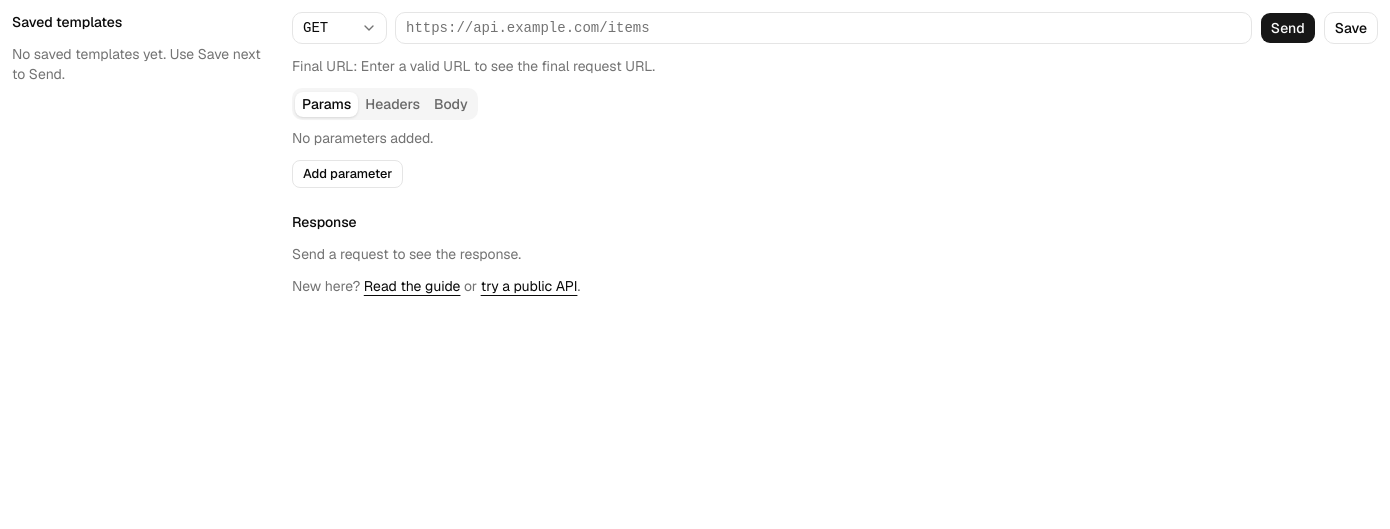
Scenario: Body tab (FR-01) › is disabled for GET, and content survives switching methods
Click the tab "Body".
click(451, 104)  # box [427, 92, 475, 116]
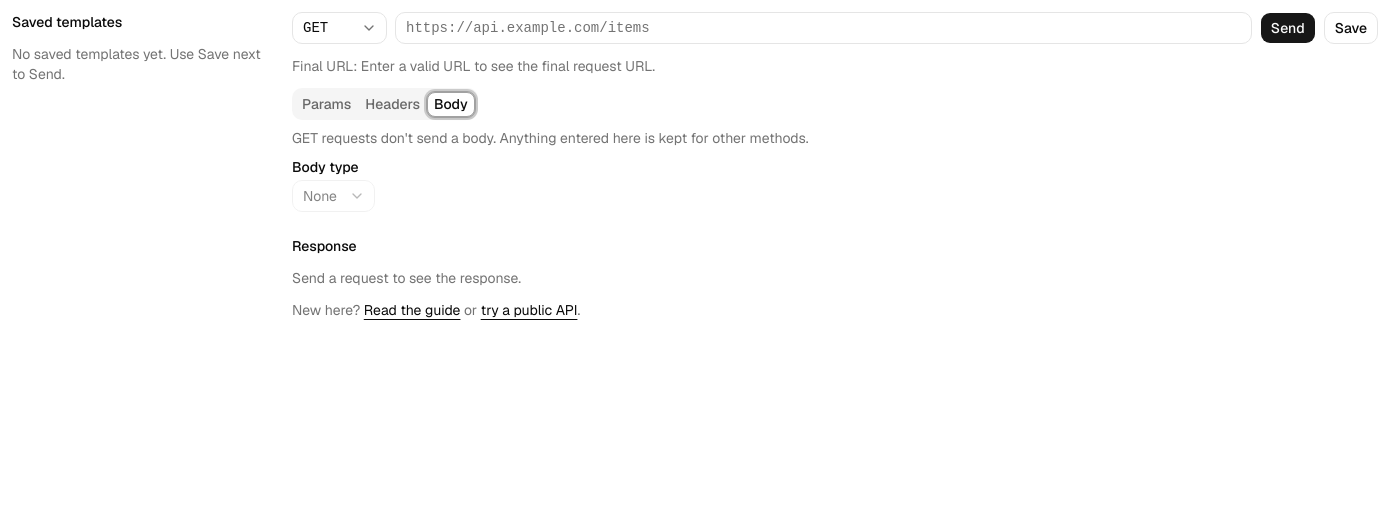
Select "POST" in the dropdown named "Method" at {"x": 340, "y": 28}, box [292, 12, 387, 44]
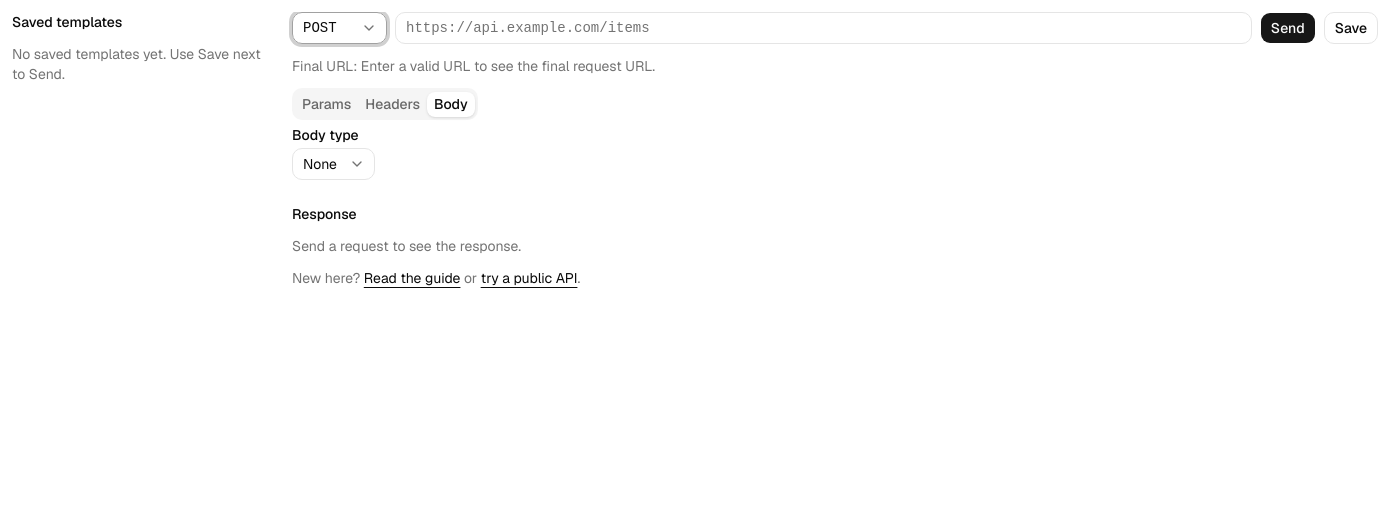
Select "Text" in the dropdown labelled "Body type" at {"x": 334, "y": 164}, box [292, 148, 375, 180]
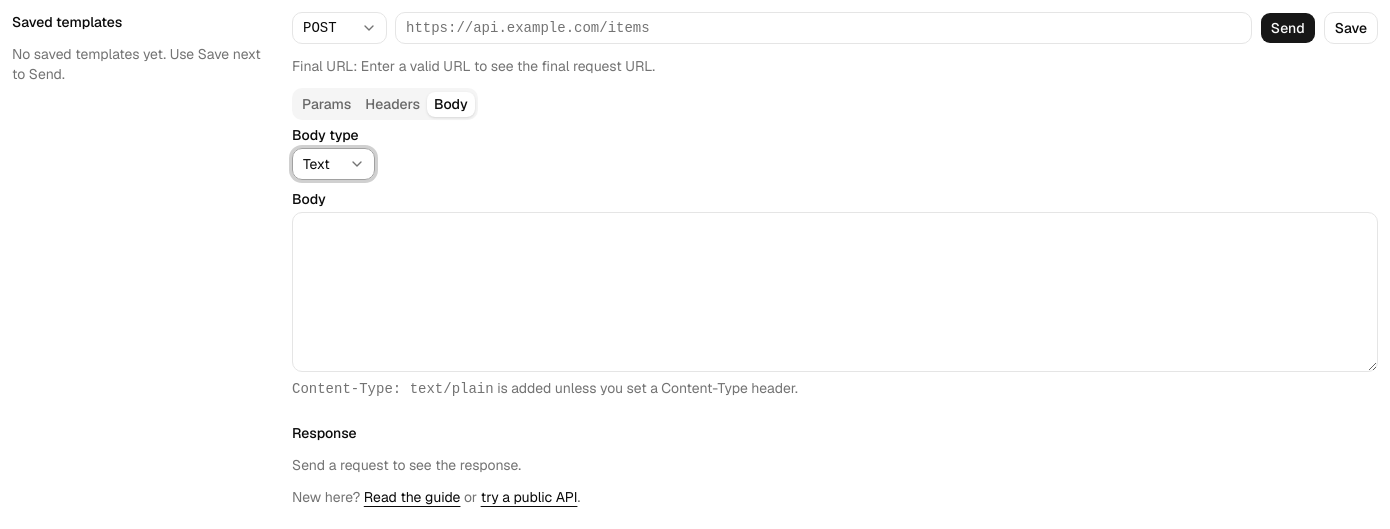
Type "hello" into the text box labelled "Body".
click(835, 292); type("hello")  # box [292, 212, 1378, 372]
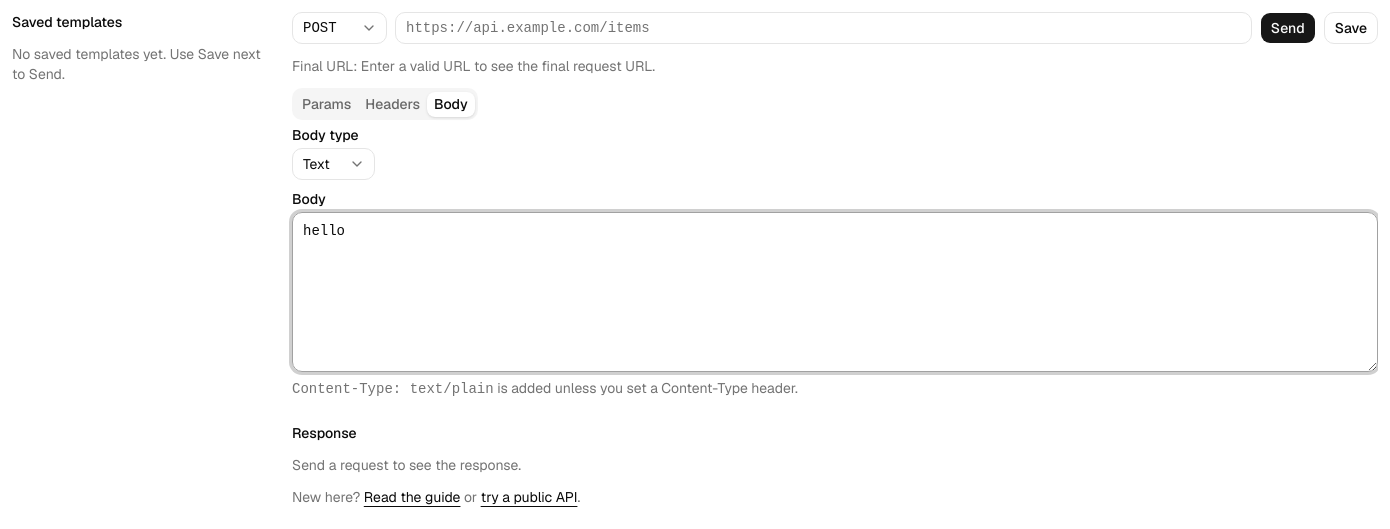
Select "GET" in the dropdown named "Method" at {"x": 340, "y": 28}, box [292, 12, 387, 44]
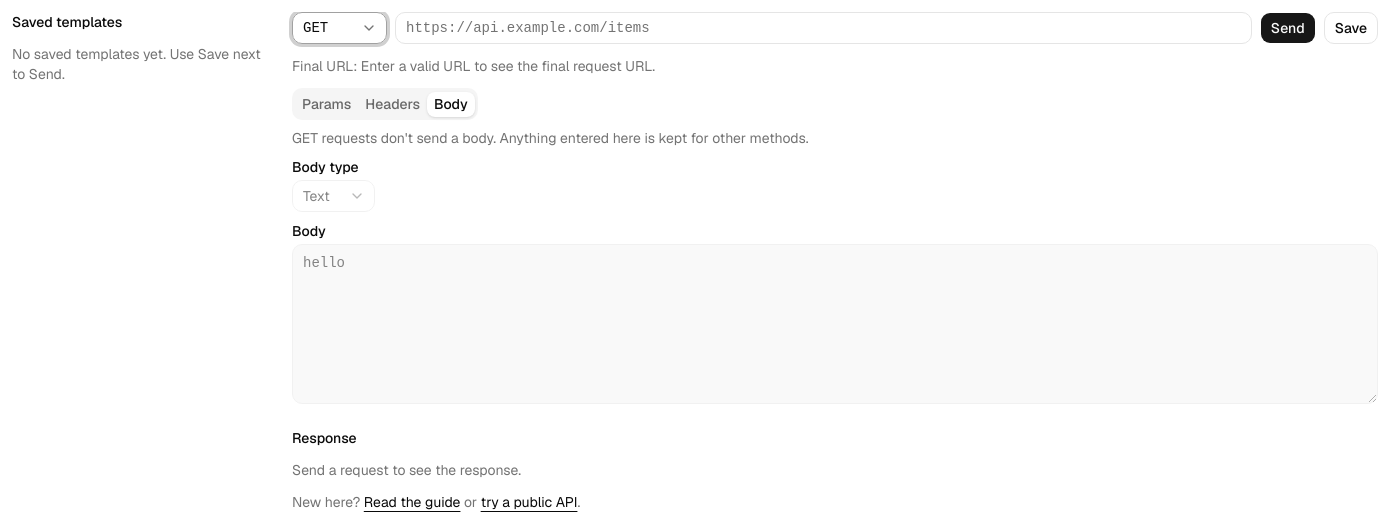
Expected: the text "GET requests don't send a body" is shown, [292, 129, 809, 147]
Expected: the dropdown labelled "Body type" is disabled, [292, 180, 375, 212]
Expected: the text box labelled "Body" is disabled, [292, 244, 1378, 404]
Select "PATCH" in the dropdown named "Method" at {"x": 340, "y": 28}, box [292, 12, 387, 44]
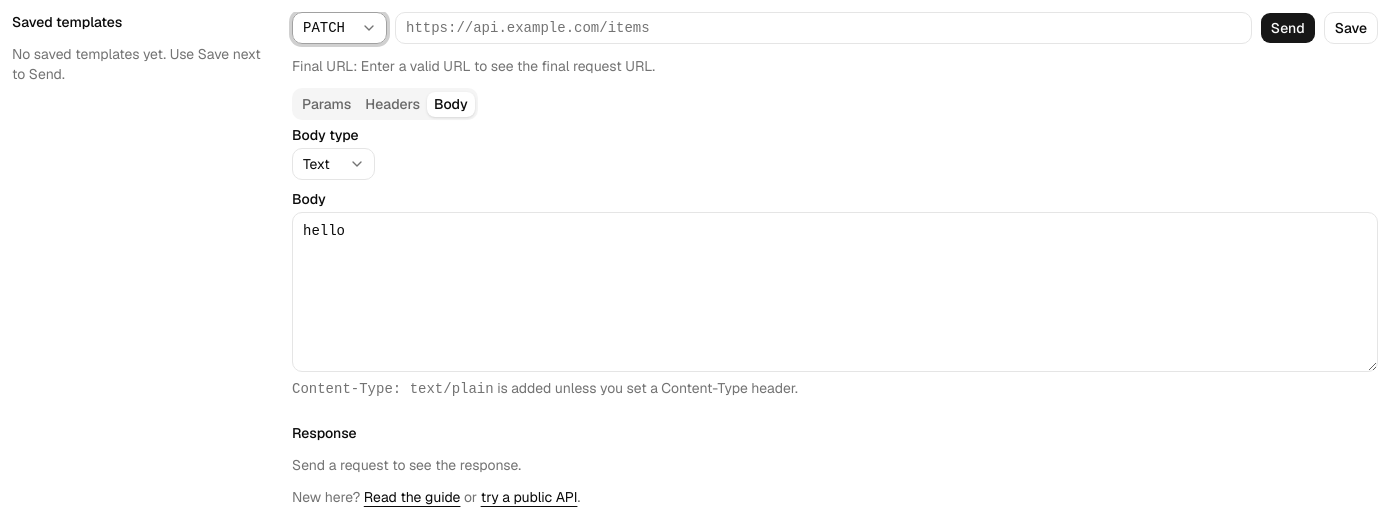
Expected: the dropdown labelled "Body type" is enabled, [292, 148, 375, 180]
Expected: the text box labelled "Body" is enabled, [292, 212, 1378, 372]
